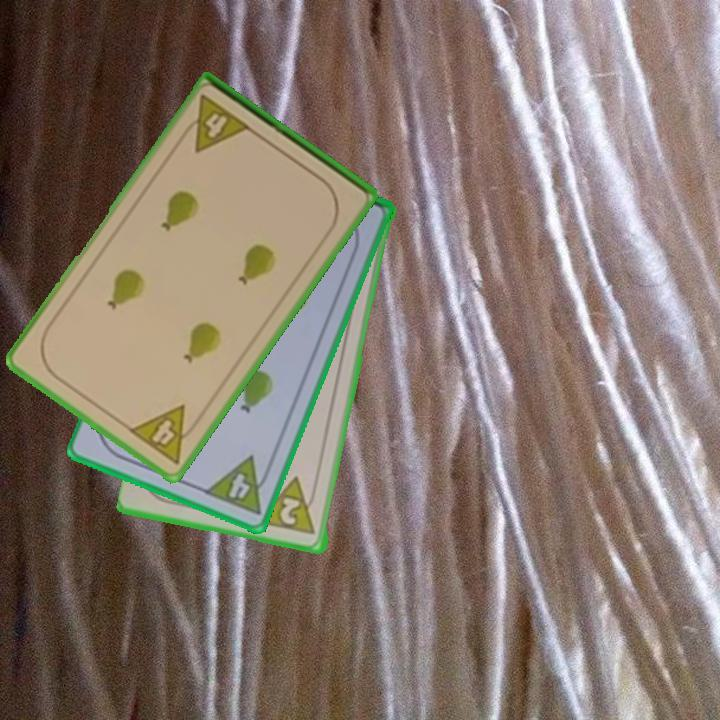2p: (256, 474, 319, 538)
4p: (125, 401, 205, 467), (176, 91, 254, 156), (201, 452, 276, 518)
